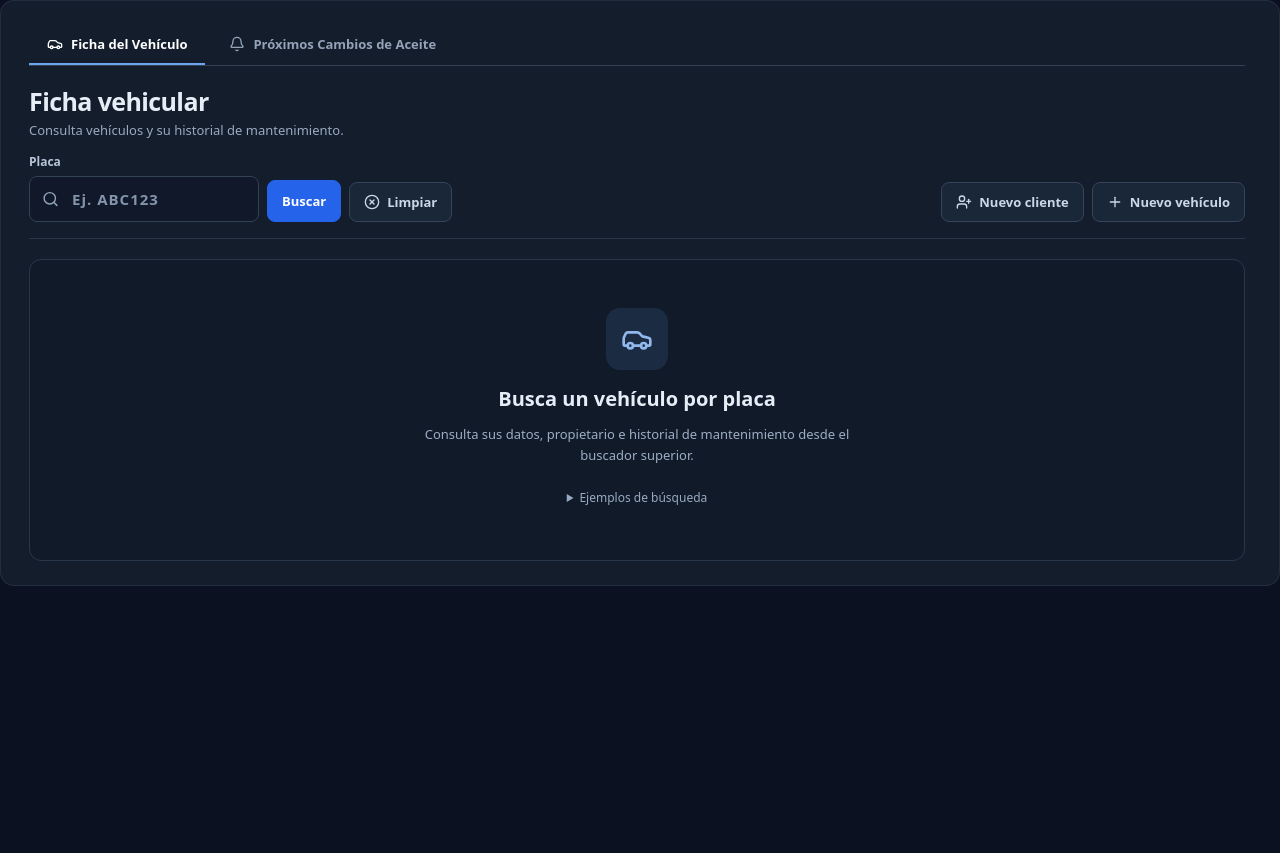
FichaVehicularPage - Pruebas de Integración Frontend (Punto 15) › 4. Realiza paginación remota al hacer clic en Siguiente página
Type "ABC123" into the field with placeholder "Ej. ABC123" at (144, 199), box [29,176,259,222]
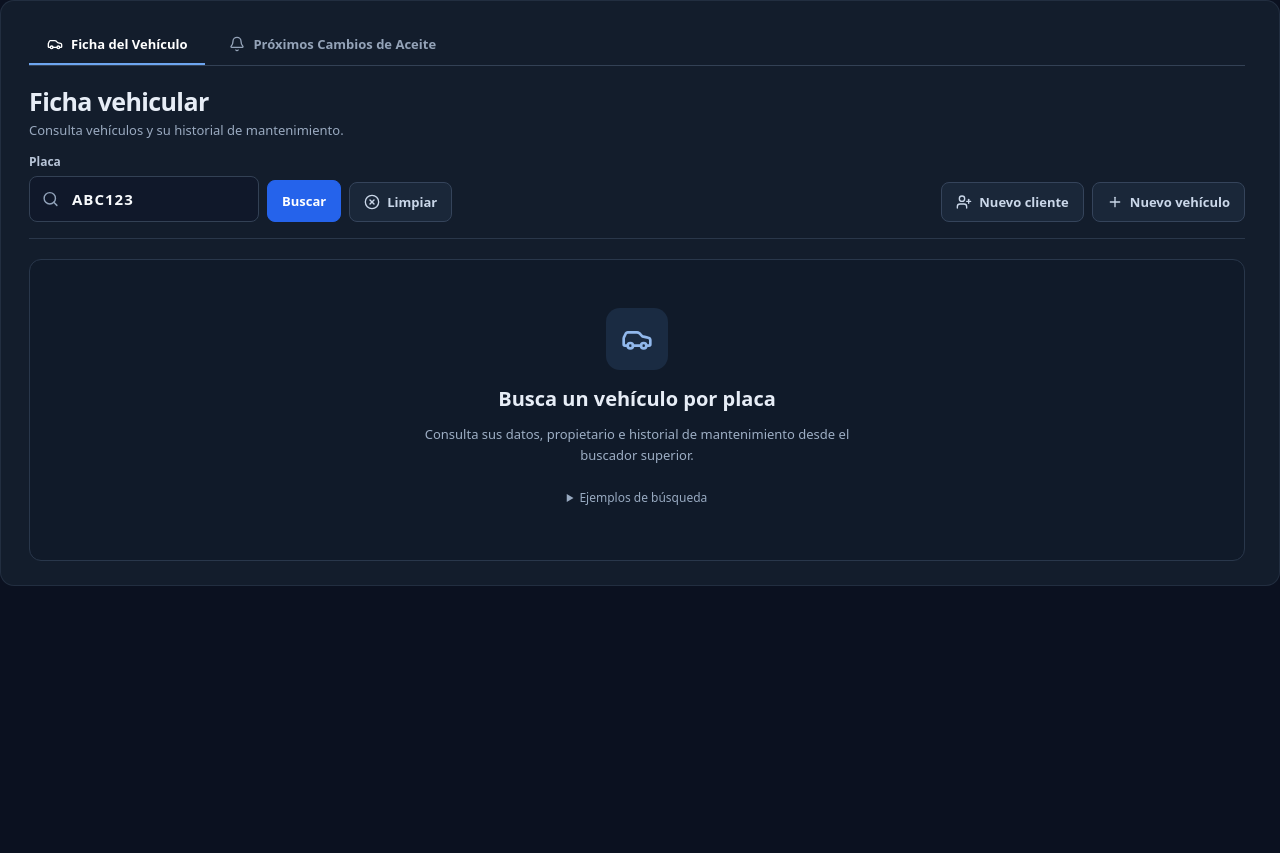
Click the button "Buscar" at (304, 201), box [267,180,341,222]
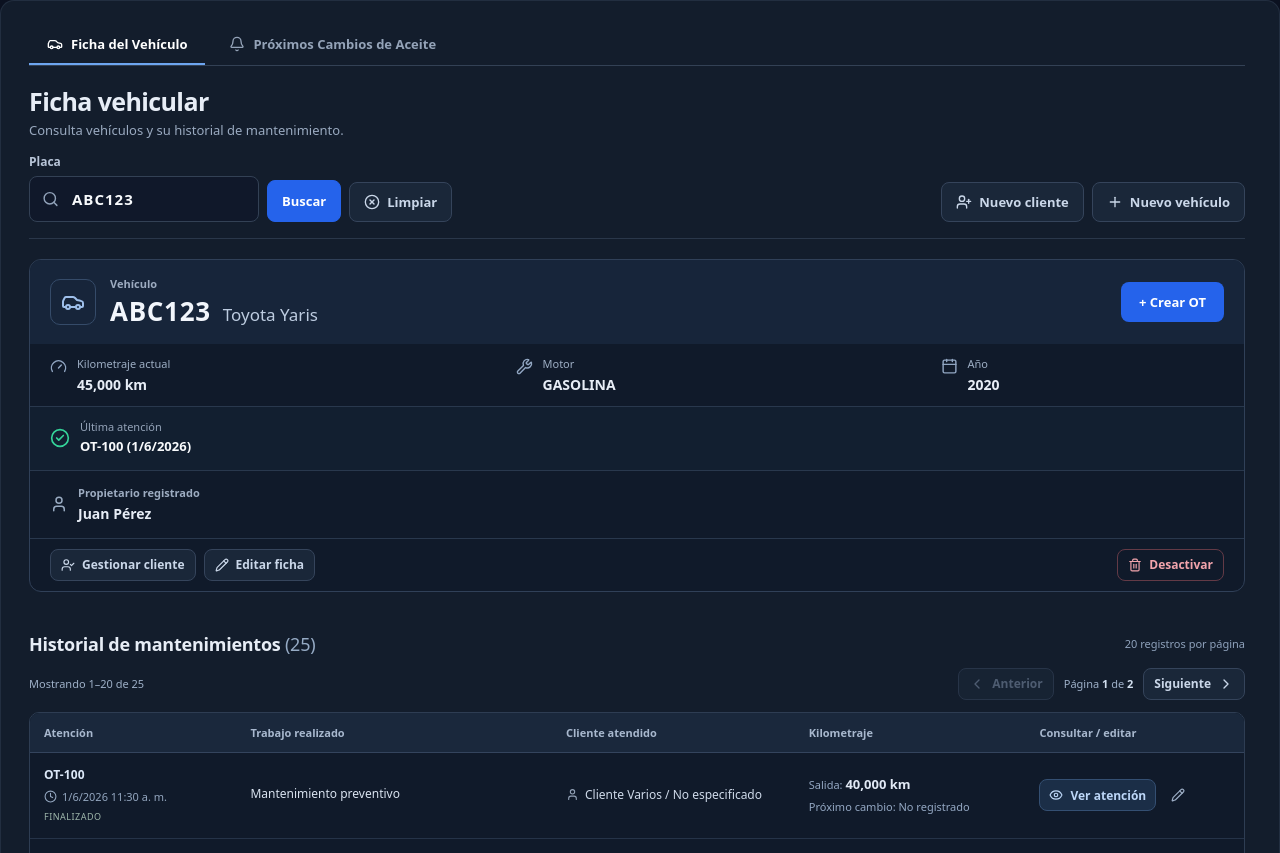
expect the text "Mostrando 1–20 de 25" is shown: met, box [29,676,144,691]
Click the button "Siguiente" at (1194, 684), box [1143,668,1245,700]
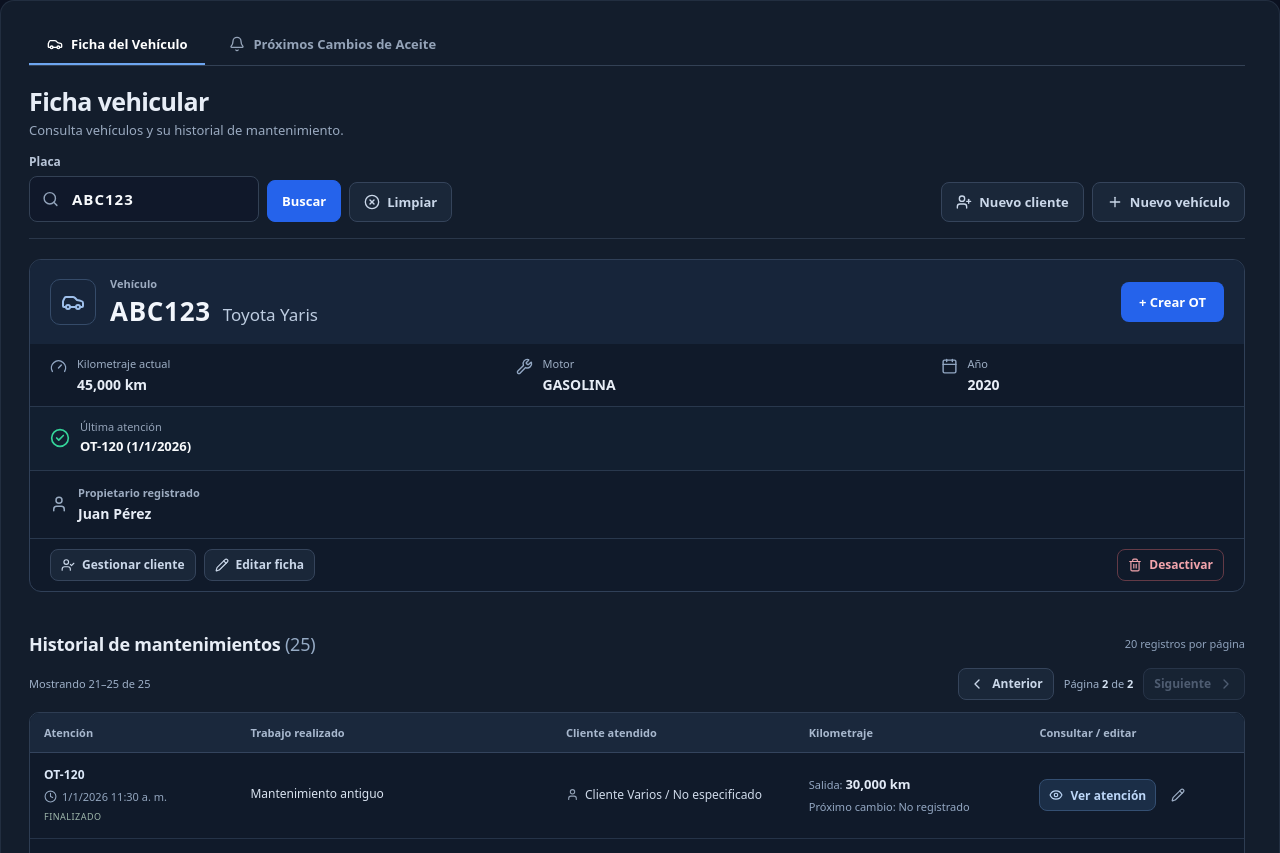
expect the text "Mostrando 21–25 de 25" is shown: met, box [29,676,150,691]
